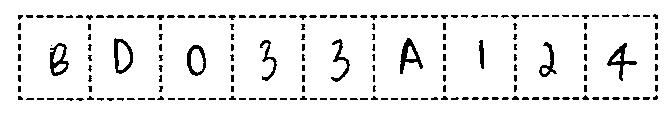0: (176, 37, 217, 81)
1: (467, 34, 495, 76)
2: (528, 35, 564, 85)
3: (322, 34, 358, 87), (252, 34, 284, 88)
4: (604, 37, 642, 86)
A: (390, 36, 429, 80)
B: (44, 38, 74, 82)
D: (101, 34, 141, 80)
